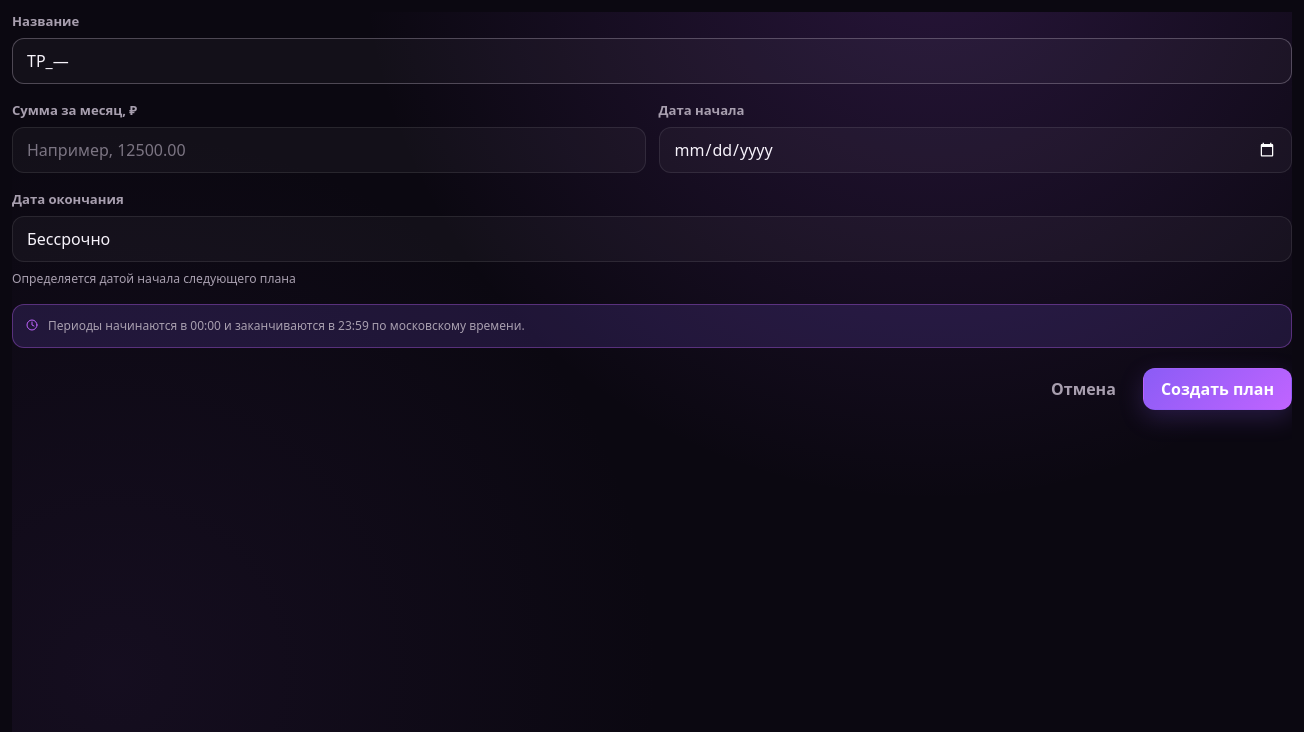
Test case: TariffPlanForm › maps server field errors to the editable control
The width and height of the screenshot is (1304, 732).
Step 1. Type "1000" into the number field labelled "Сумма за месяц, ₽" → point(329, 150), box [12,127,646,173]
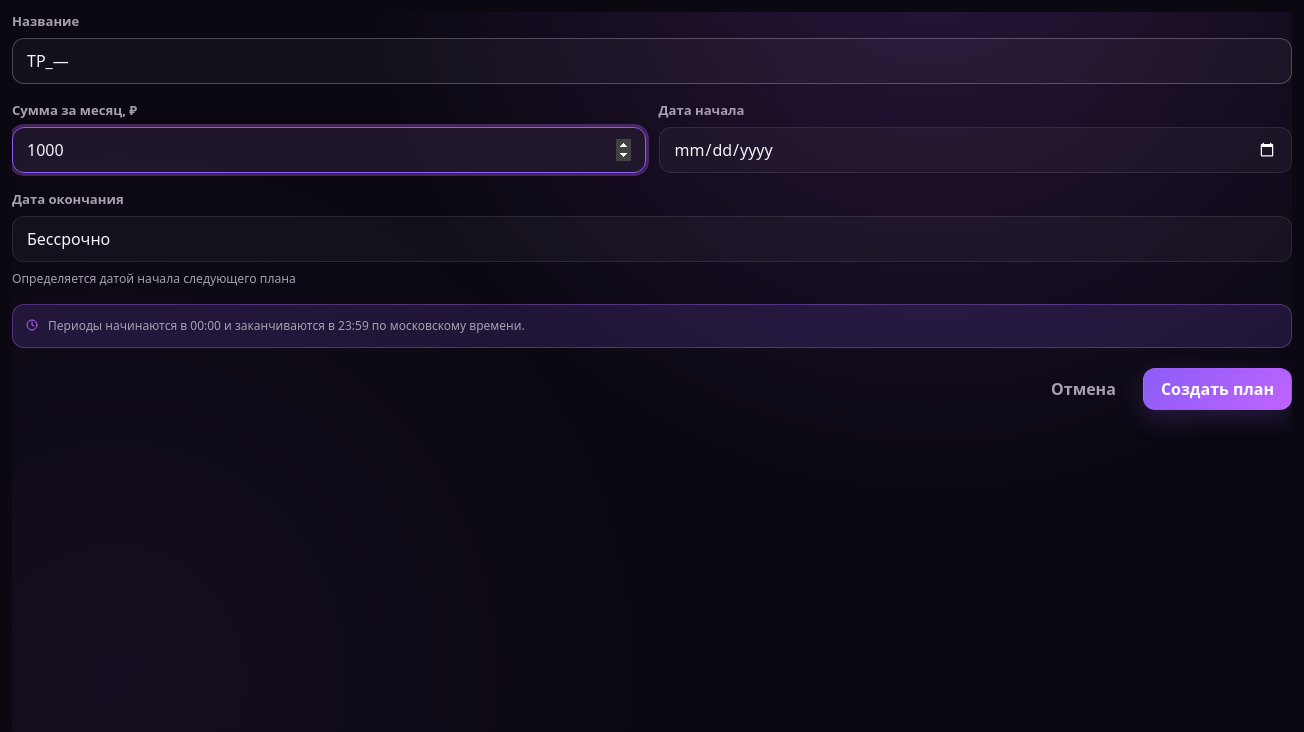
Step 2. Type "2026-08-01" into the date field labelled "Дата начала" → point(975, 150), box [658,127,1292,173]
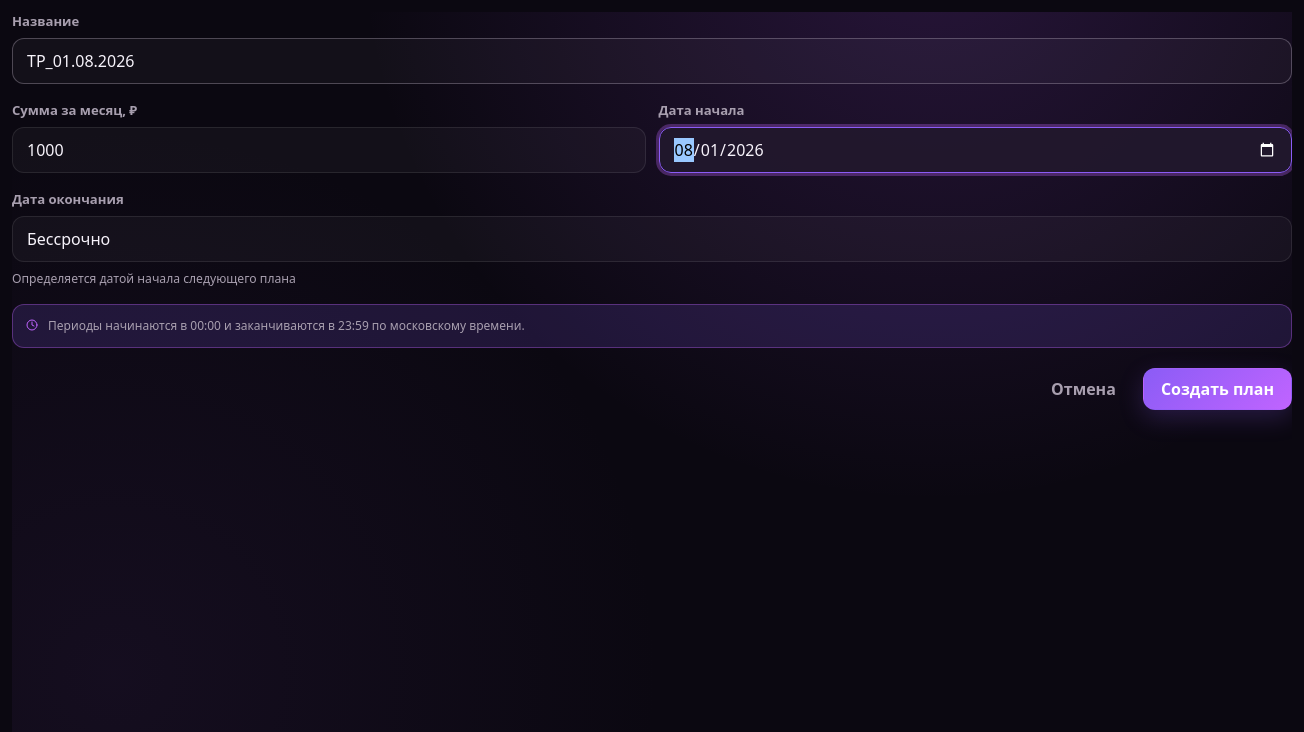
Step 3. Click the button "Создать план" → point(1217, 389), box [1143,368,1292,410]
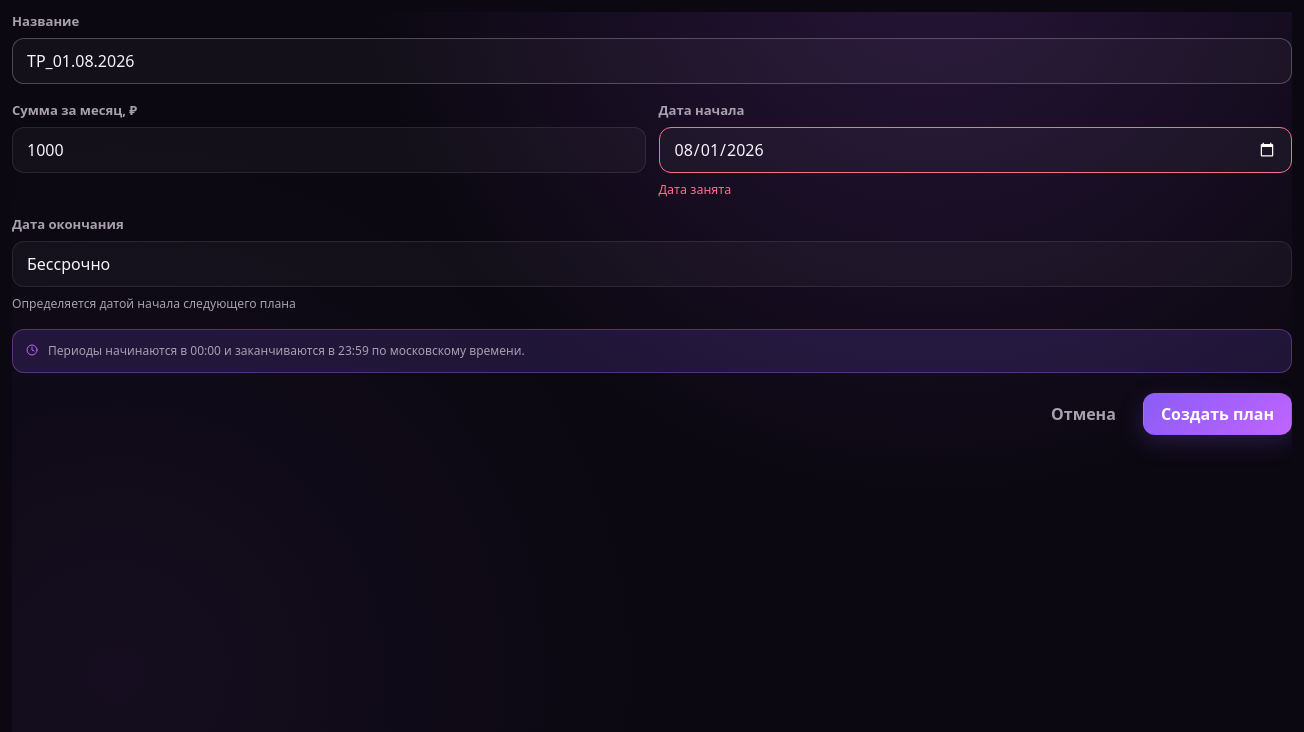
Now the text "Дата занята" is shown, box [658,181,731,198]
